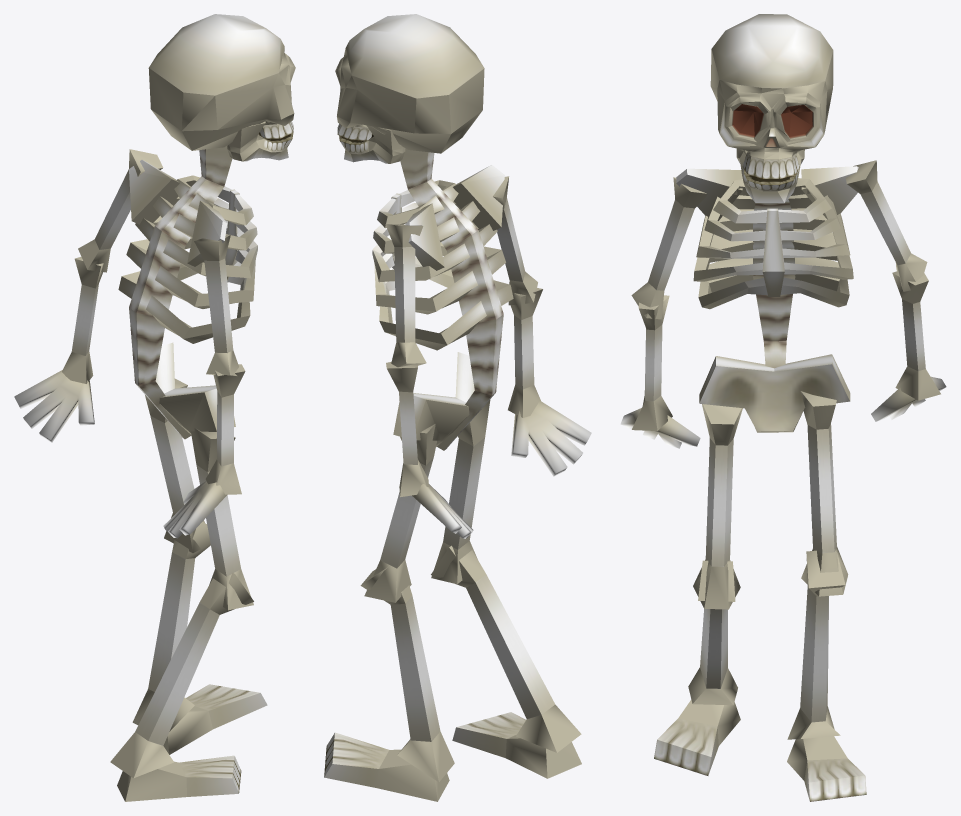
3 renders of one model, left to right at view 1: azimuth 30°, elevation 25°; view 2: azimuth 150°, elevation 25°; view 3: azimuth 270°, elevation 25°, orthographic. The views are drawn at different scales.
Visible parts, largest first — view 1: torso, head, lowerleg.R, lowerleg.L, upperleg.R, hand.L, shoulder.R, upperleg.L, forearm.R, shoulder.L, forearm.L, hand.R; view 2: torso, head, lowerleg.R, lowerleg.L, upperleg.R, upperleg.L, hand.R, shoulder.L, forearm.R, forearm.L, shoulder.R, hand.L; view 3: torso, head, lowerleg.L, lowerleg.R, upperleg.R, upperleg.L, shoulder.R, shoulder.L, forearm.L, forearm.R, hand.R, hand.L.
Part boxes in pixels (left/top/right/bottom): torso: left=118, top=145, right=257, bottom=439; head: left=148, top=14, right=295, bottom=161; lowerleg.R: left=110, top=572, right=253, bottom=801; lowerleg.L: left=132, top=521, right=267, bottom=754; upperleg.R: left=191, top=428, right=253, bottom=610; hand.L: left=14, top=370, right=94, bottom=442; shoulder.R: left=194, top=234, right=238, bottom=375; upperleg.L: left=145, top=378, right=204, bottom=552; forearm.R: left=205, top=364, right=245, bottom=494; shoulder.L: left=78, top=149, right=163, bottom=272; forearm.L: left=62, top=256, right=103, bottom=383; hand.R: left=163, top=481, right=227, bottom=538; torso: left=372, top=148, right=513, bottom=450; head: left=335, top=14, right=484, bottom=163; lowerleg.R: left=431, top=545, right=581, bottom=778; lowerleg.L: left=324, top=566, right=454, bottom=801; upperleg.R: left=431, top=399, right=490, bottom=584; upperleg.L: left=364, top=424, right=436, bottom=602; hand.R: left=511, top=401, right=591, bottom=476; shoulder.L: left=385, top=224, right=426, bottom=367; forearm.R: left=508, top=288, right=542, bottom=417; forearm.L: left=386, top=362, right=428, bottom=497; shoulder.R: left=493, top=176, right=537, bottom=305; hand.L: left=412, top=484, right=473, bottom=538; torso: left=676, top=166, right=858, bottom=432; head: left=710, top=14, right=833, bottom=203; lowerleg.L: left=787, top=550, right=866, bottom=801; lowerleg.R: left=654, top=560, right=740, bottom=775; upperleg.R: left=693, top=404, right=742, bottom=609; upperleg.L: left=800, top=391, right=848, bottom=596; shoulder.R: left=631, top=177, right=707, bottom=319; shoulder.L: left=845, top=160, right=927, bottom=291; forearm.L: left=892, top=271, right=940, bottom=400; forearm.R: left=632, top=295, right=672, bottom=430; hand.R: left=620, top=408, right=700, bottom=448; hand.L: left=871, top=376, right=946, bottom=421.
Size of the model in its own units: 1.79 by 6.21 by 2.4.
